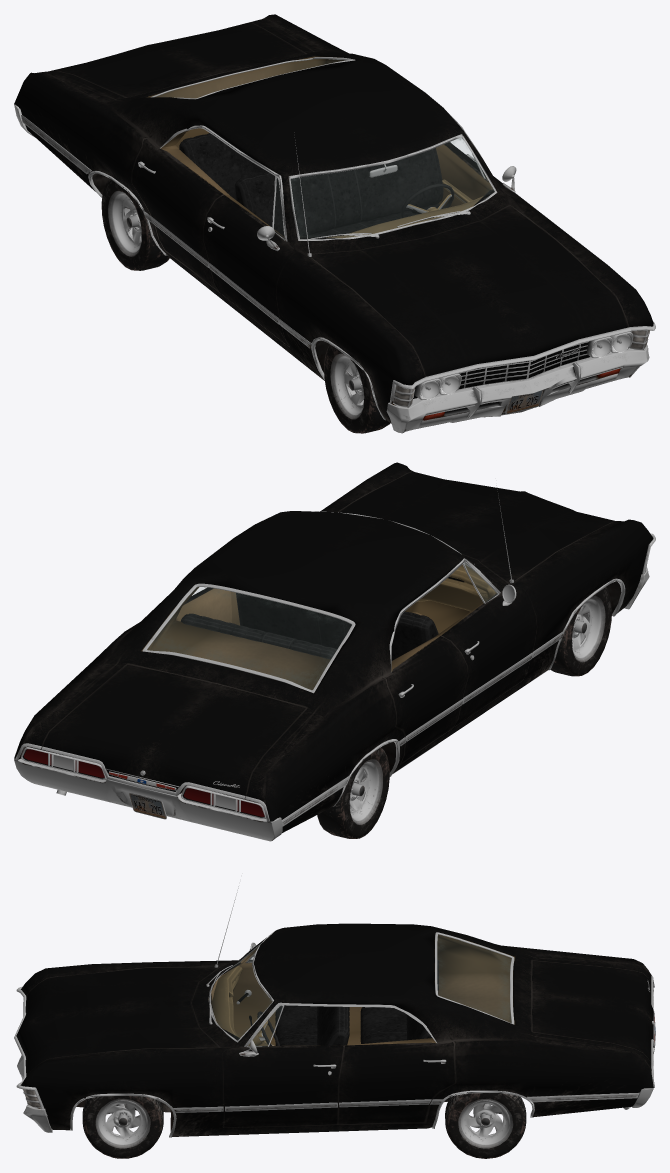
Rendered from chevrolet-impala.glb.
3 renders of one model, top to bottom at view 1: azimuth 30°, elevation 25°; view 2: azimuth 150°, elevation 25°; view 3: azimuth 270°, elevation 25°, orthographic. The views are drawn at different scales.
Visible parts, largest first — view 1: CarUP_LP, CouchUP_LP, FrontGlass_LP, FrontBump_LP, Wheel_LP, Grill_LP, BackGlass_LP, FrontChromeglass_LP, Frontchromemask_LP, LampMirror_LP, Desktop_LP, GlassLapm_LP (+5 smaller); view 2: CarUP_LP, BackGlass_LP, Wheel_LP, CouchUP_LP, Backbump_LP, BackLapmFrame_LP, ChromeBackGlass_LP, Desktop_LP, BackChromelamp_LP, IDBack_LP, SideWindow_LP, Sidechrome5_LP; view 3: CarUP_LP, Wheel_LP, BackGlass_LP, CouchDown_LP, FrontGlass_LP, CouchUP_LP, Desktop_LP, ChromeBackGlass_LP, Sidechrome5_LP, SideWindow_LP, Sidechrome2_LP, FrontBump_LP (+5 smaller).
Boxes of the visible parts, x1,y1,x2,y2 form: CarUP_LP: (14,14,653,423); CouchUP_LP: (179,133,443,236); FrontGlass_LP: (291,137,494,238); FrontBump_LP: (386,344,649,433); Wheel_LP: (101,179,390,433); Grill_LP: (458,341,589,389); BackGlass_LP: (154,59,337,97); FrontChromeglass_LP: (288,134,497,240); Frontchromemask_LP: (425,327,631,381); LampMirror_LP: (420,334,630,399); Desktop_LP: (326,196,483,238); GlassLapm_LP: (422,334,630,398); CarUP_LP: (14,462,653,832); BackGlass_LP: (147,587,351,689); Wheel_LP: (317,587,611,838); CouchUP_LP: (180,593,438,660); Backbump_LP: (14,758,282,841); BackLapmFrame_LP: (21,747,265,818); ChromeBackGlass_LP: (142,583,355,693); Desktop_LP: (416,565,496,611); BackChromelamp_LP: (15,743,270,822); IDBack_LP: (129,793,166,819); SideWindow_LP: (389,558,500,672); Sidechrome5_LP: (282,776,350,826); CarUP_LP: (16,923,653,1136); Wheel_LP: (82,1093,526,1158); BackGlass_LP: (437,935,511,1022); CouchDown_LP: (275,1005,406,1045); FrontGlass_LP: (212,944,271,1039); CouchUP_LP: (317,959,438,1045); Desktop_LP: (212,966,242,1037); ChromeBackGlass_LP: (435,932,514,1024); Sidechrome5_LP: (527,1092,639,1102); SideWindow_LP: (244,952,436,1046); Sidechrome2_LP: (225,1102,337,1111); FrontBump_LP: (17,1055,52,1132).
Bounding box in the file's own units: 0.2234 × 0.1997 × 0.5745.
Materials: 6 (6 with a texture image).
